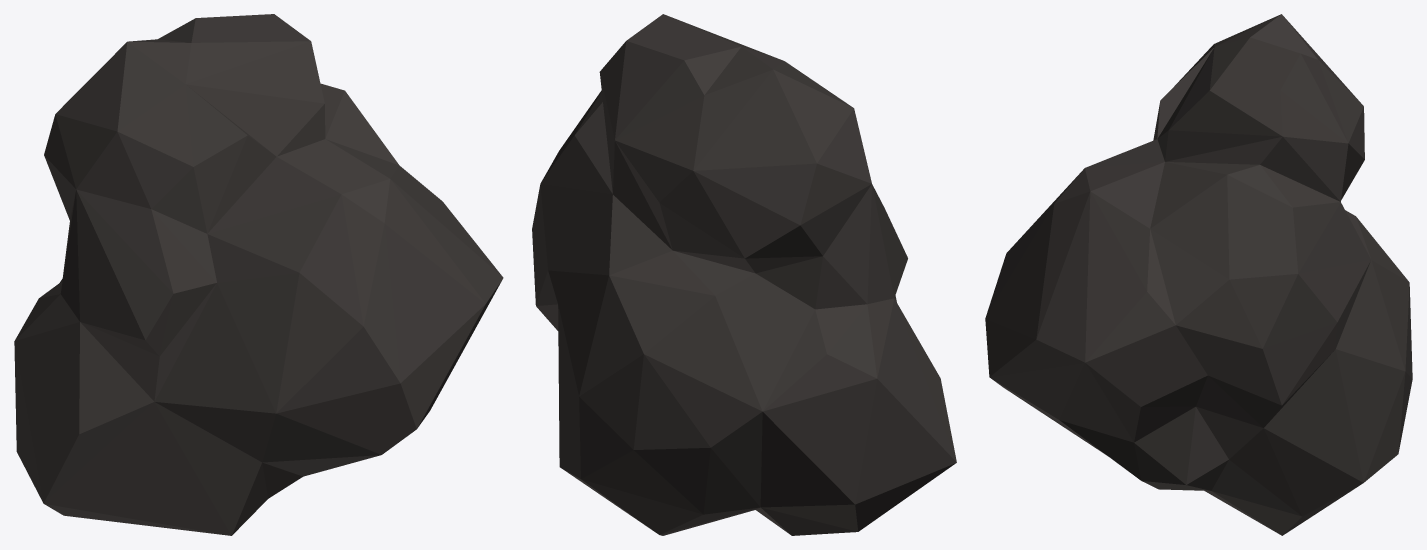
Rendered from Rock_2.fbx.
The picture shows the model from 3 angles, left to right: view 1: azimuth 30°, elevation 25°; view 2: azimuth 150°, elevation 25°; view 3: azimuth 270°, elevation 25°; orthographic projection. The views are drawn at different scales.
Parts seen in each view (by area): view 1: Group42497; view 2: Group42497; view 3: Group42497.
Boxes of the visible parts, bbox=[...] form: Group42497: bbox=[14, 14, 503, 535]; Group42497: bbox=[532, 14, 956, 535]; Group42497: bbox=[985, 14, 1412, 535].
Bounding box in the file's own units: 8.68 × 9.96 × 8.19.
